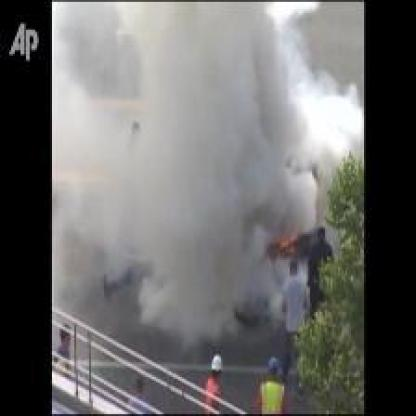smoke: (54, 4, 333, 324)
